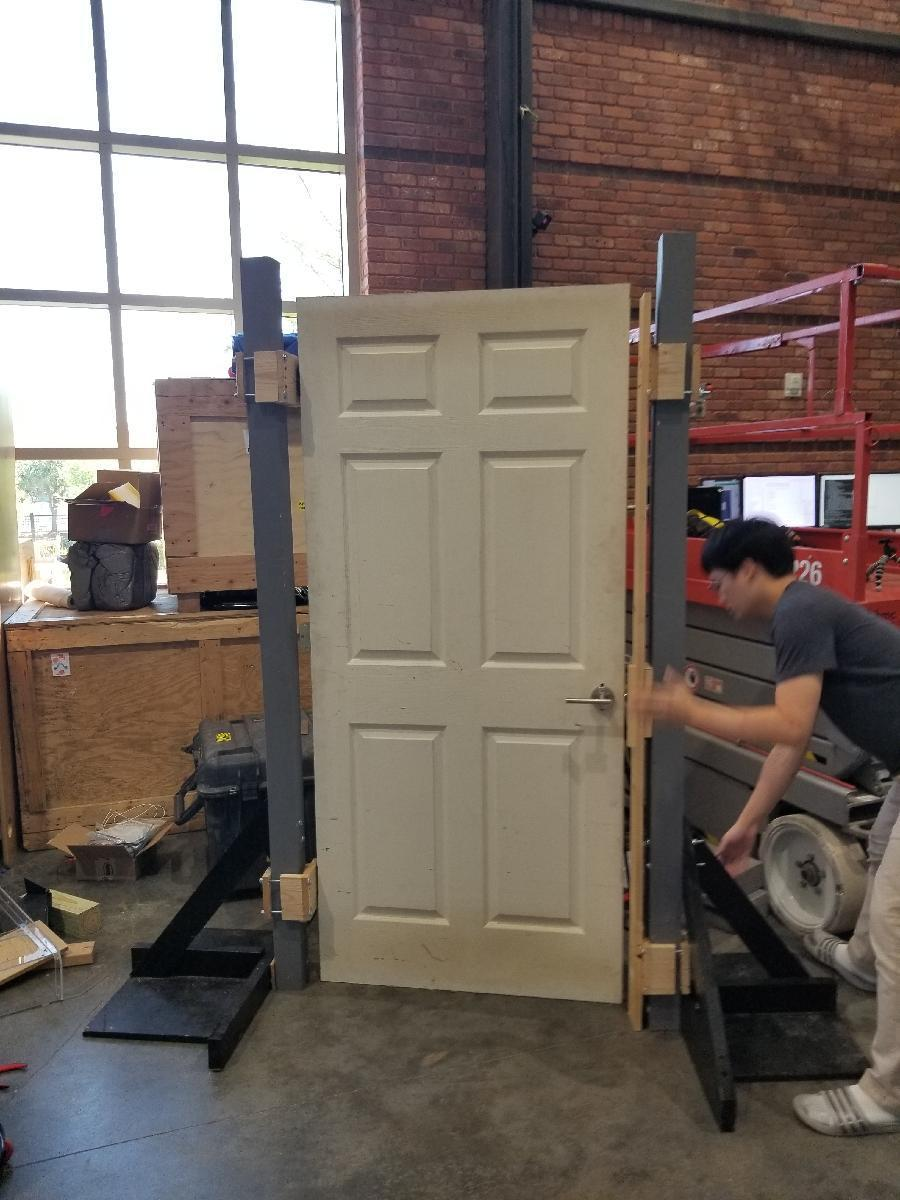door: (299, 298, 632, 1001)
handle: (564, 678, 624, 719)
